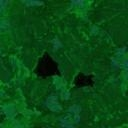alloviz: (31, 49, 62, 79), (71, 69, 95, 89)
